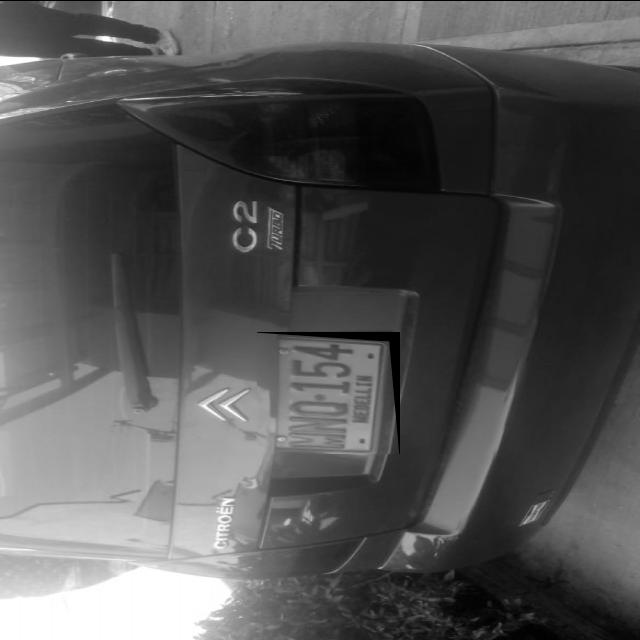plate: (257, 330, 400, 452)
